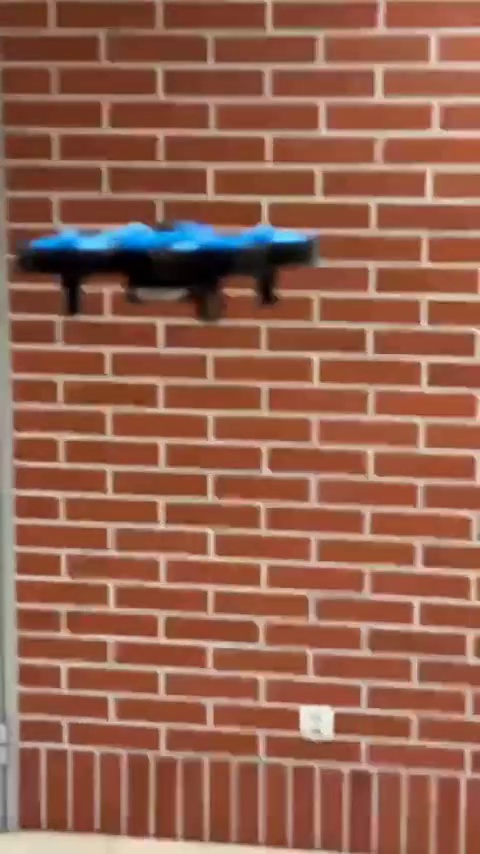drone: (20, 222, 318, 316)
